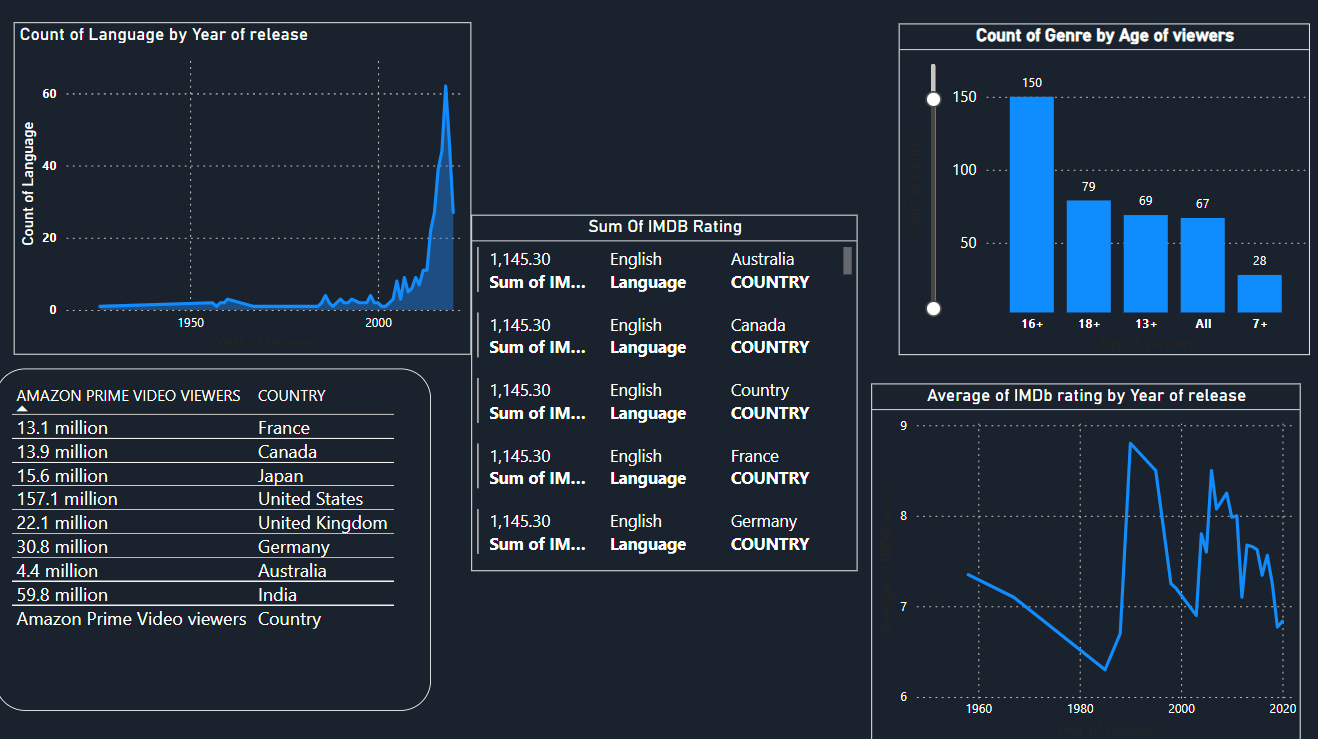

What the dashboard file says about the page in this screenshot:
{"tool":"powerbi","page":{"name":"Page 2","canvas":[1280,720],"ordinal":2},"visuals":[{"type":"columnChart","fields":{"Category":["AMazon Prime TV Shows Data set.Age of viewers"],"Y":["CountNonNull(AMazon Prime TV Shows Data set.Genre)"]},"box":[872.3,26.5,396.9,319.7],"z":0},{"type":"stackedAreaChart","fields":{"Category":["AMazon Prime TV Shows Data set.Year of release"],"Y":["CountNonNull(AMazon Prime TV Shows Data set.Language)"]},"box":[18.1,25.3,441.6,320.9],"z":1000},{"type":"lineChart","fields":{"Category":["AMazon Prime TV Shows Data set.Year of release"],"Y":["Avg(AMazon Prime TV Shows Data set.IMDb rating)"]},"box":[845.7,374.3,414.3,344.3],"z":2000},{"type":"tableEx","fields":{"Values":["Country (Sheet1).AMAZON PRIME VIDEO VIEWERS","Country (Sheet1).COUNTRY"]},"box":[0,359.5,421,330.6],"z":3000},{"type":"multiRowCard","title":"Sum Of IMDB Rating","fields":{"Values":["Sum(AMazon Prime TV Shows Data set.IMDb rating)","AMazon Prime TV Shows Data set.Language","Country (Sheet1).COUNTRY"]},"box":[459.7,211.1,372.8,343.8],"z":4000}]}

Visuals, with their boxes in screenshot pixels (x1, y1, x2, y2), scaled from the page's 1280x720 canvas onto the 1318x739 screenshot:
columnChart - AMazon Prime TV Shows Data set.Age of viewers x CountNonNull(AMazon Prime TV Shows Data set.Genre): (left=898, top=27, right=1307, bottom=355)
stackedAreaChart - AMazon Prime TV Shows Data set.Year of release x CountNonNull(AMazon Prime TV Shows Data set.Language): (left=19, top=26, right=473, bottom=355)
lineChart - AMazon Prime TV Shows Data set.Year of release x Avg(AMazon Prime TV Shows Data set.IMDb rating): (left=871, top=384, right=1297, bottom=738)
tableEx - Country (Sheet1).AMAZON PRIME VIDEO VIEWERS x Country (Sheet1).COUNTRY: (left=0, top=369, right=433, bottom=708)
"Sum Of IMDB Rating" multiRowCard: (left=473, top=217, right=857, bottom=570)
